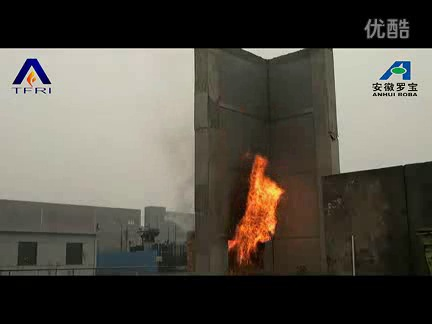fire: (227, 150, 285, 267)
